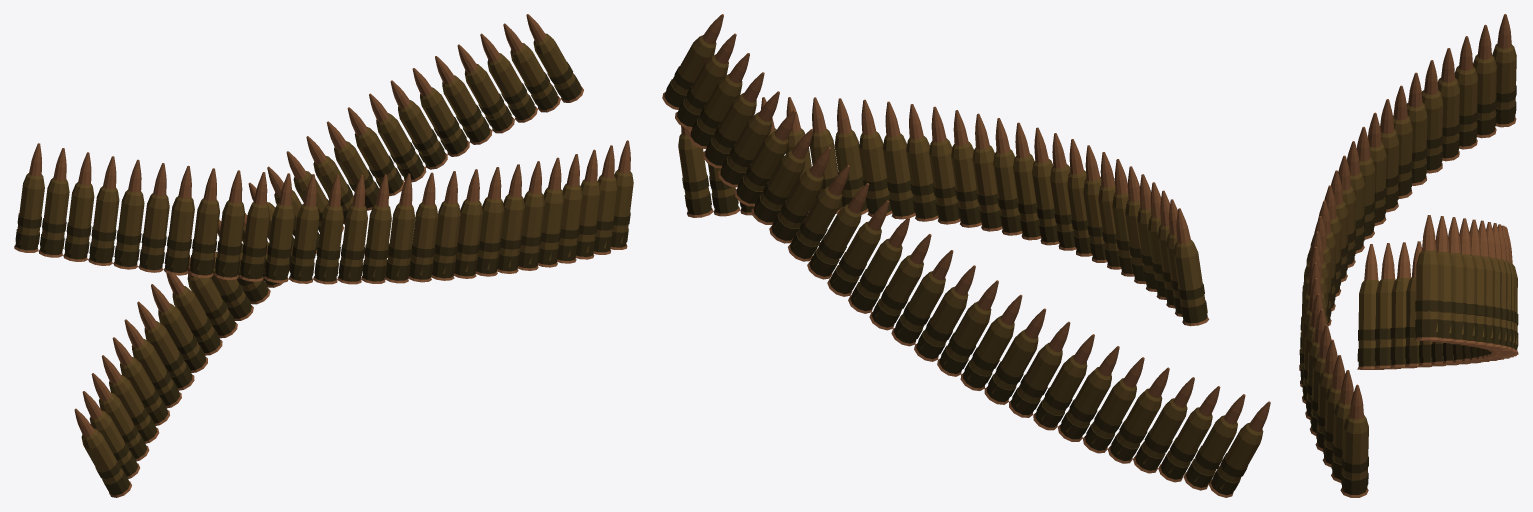
Rendered from MachineGunAmmo2.glb.
The picture shows the model from 3 angles, left to right: view 1: azimuth 30°, elevation 25°; view 2: azimuth 150°, elevation 25°; view 3: azimuth 270°, elevation 25°; orthographic projection. The views are drawn at different scales.
Parts seen in each view (by area): view 1: Cylinder.002; view 2: Cylinder.002; view 3: Cylinder.002.
Boxes of the visible parts, box(x1,y1,x2,y2) form: Cylinder.002: box(14, 14, 633, 497); Cylinder.002: box(662, 14, 1270, 497); Cylinder.002: box(1299, 14, 1518, 497).
Bounding box in the file's own units: 0.7445 × 0.4585 × 0.2295.
1 material, 1 textured.
